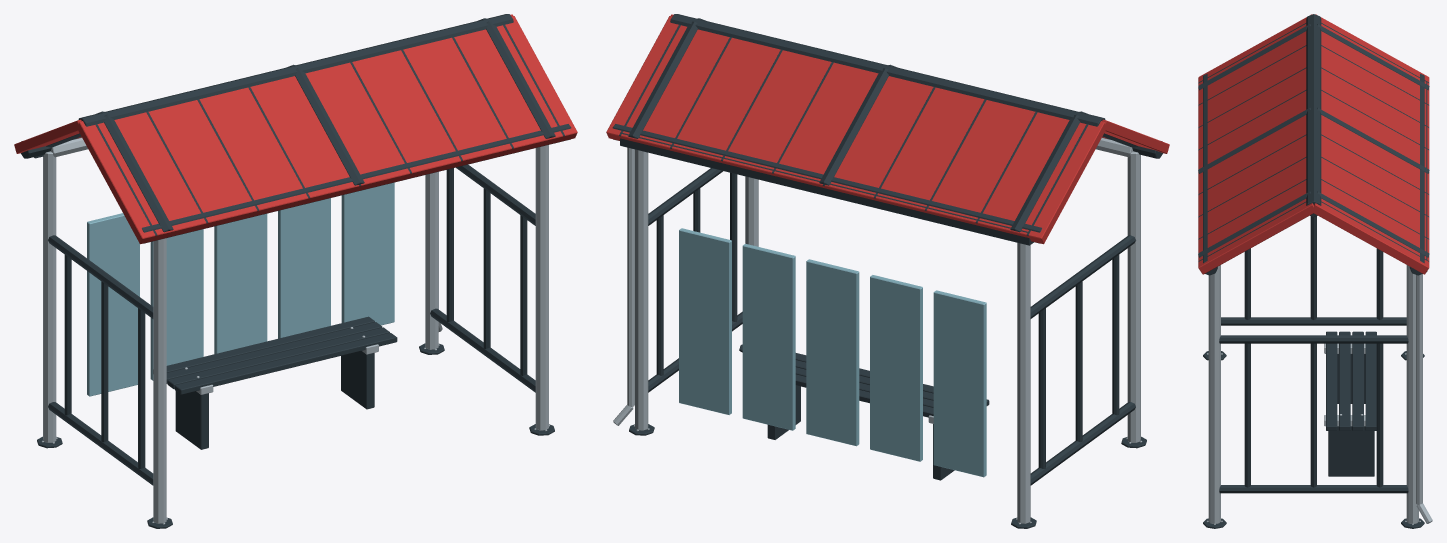
The model's file is b01_gabled_neighborhood_bus_shelter.glb.
3 renders of one model, left to right at view 1: azimuth 30°, elevation 25°; view 2: azimuth 150°, elevation 25°; view 3: azimuth 270°, elevation 25°, orthographic. The views are drawn at different scales.
Parts seen in each view (by area): view 1: b01_gabled_neighborhood_bus_shelter; view 2: b01_gabled_neighborhood_bus_shelter; view 3: b01_gabled_neighborhood_bus_shelter.
Boxes of the visible parts, bbox=[...] form: b01_gabled_neighborhood_bus_shelter: bbox=[14, 14, 577, 528]; b01_gabled_neighborhood_bus_shelter: bbox=[606, 14, 1169, 528]; b01_gabled_neighborhood_bus_shelter: bbox=[1198, 14, 1432, 528].
Bounding box in the file's own units: 3.42 × 2.78 × 1.78.
